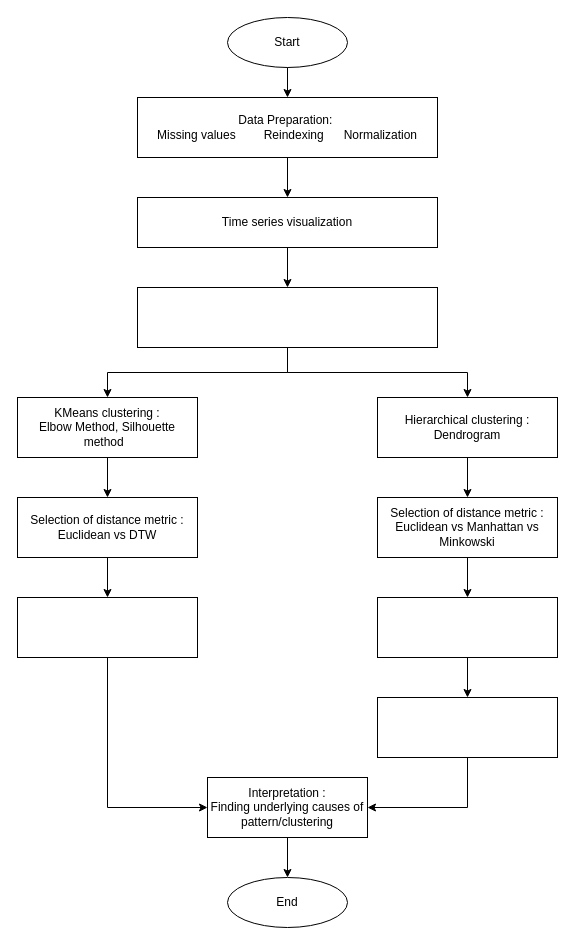
Image size: 575x945. Some labels were removed from this diagram. The shapes that lost their labels are listed below. From the top down, each one's centre as x and y in pixels, then its label:
At (x=287, y=317): "Determine no. of clusters for clustering algorithms".
At (x=107, y=627): "Time series clustering using KMeans algorithm".
At (x=467, y=627): "Selection of linkage method : Single, average, complete, ward".
At (x=467, y=727): "Time series clustering using Agglomerative clustering".
